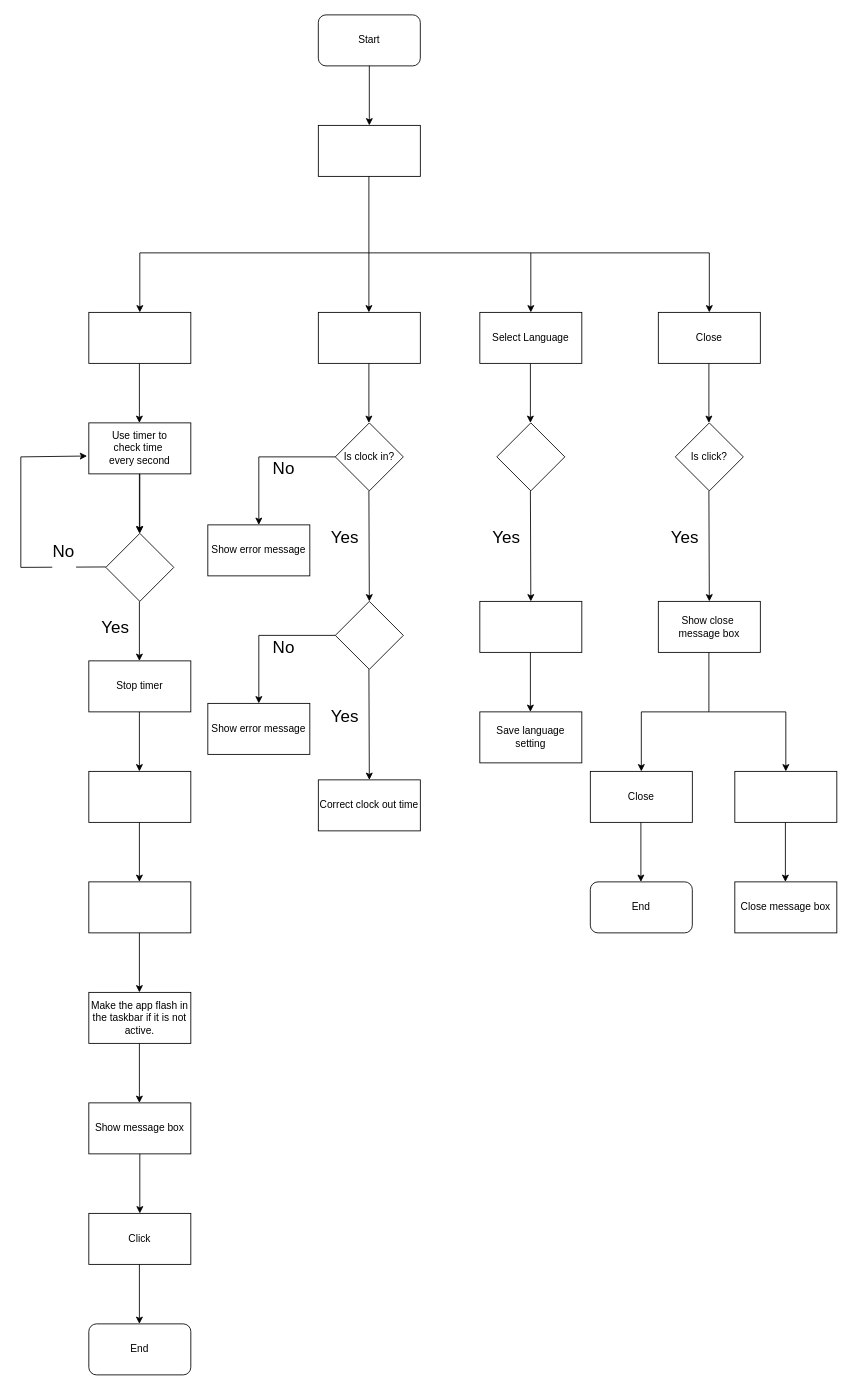
This 852x1390 diagram has some shape labels left out. Each missing label, with the box of its shape:
Cancel: (734, 771, 837, 822)
Change language: (479, 601, 582, 652)
Clock In: (88, 312, 191, 363)
Correct Time: (317, 312, 420, 363)
Is change language?: (496, 422, 565, 491)
Is clock out time?: (105, 533, 174, 601)
Is format success?: (334, 601, 403, 669)
Open url: (88, 881, 191, 933)
Send Windows notification: (88, 771, 191, 822)
Show UI and load language setting: (317, 125, 420, 176)
